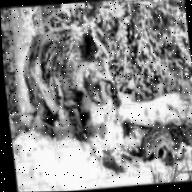boar: (18, 15, 121, 152), (138, 124, 182, 170)
